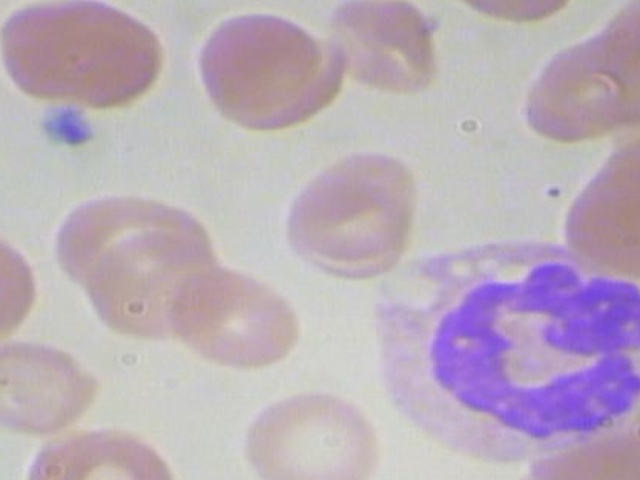Platelets: (31, 99, 96, 146)
RBC: (0, 0, 165, 113), (75, 226, 225, 347), (282, 145, 423, 269), (195, 1, 324, 119), (161, 267, 306, 368), (239, 391, 387, 480), (319, 0, 436, 101), (0, 338, 102, 439), (28, 423, 182, 480), (0, 223, 43, 354), (632, 370, 640, 480)
WBC: (347, 237, 640, 469)
